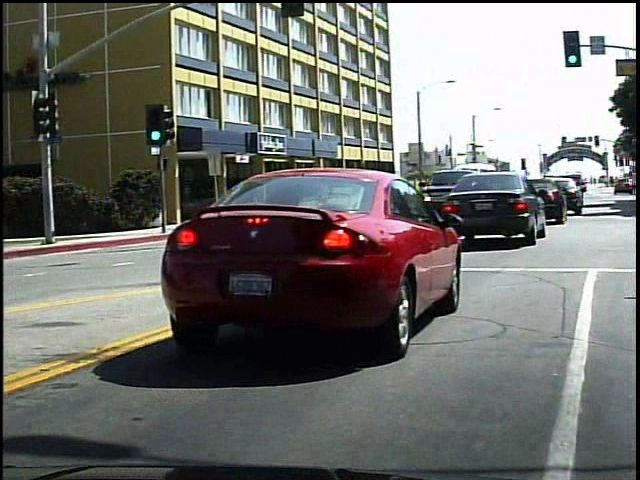person: (276, 182, 294, 220)
